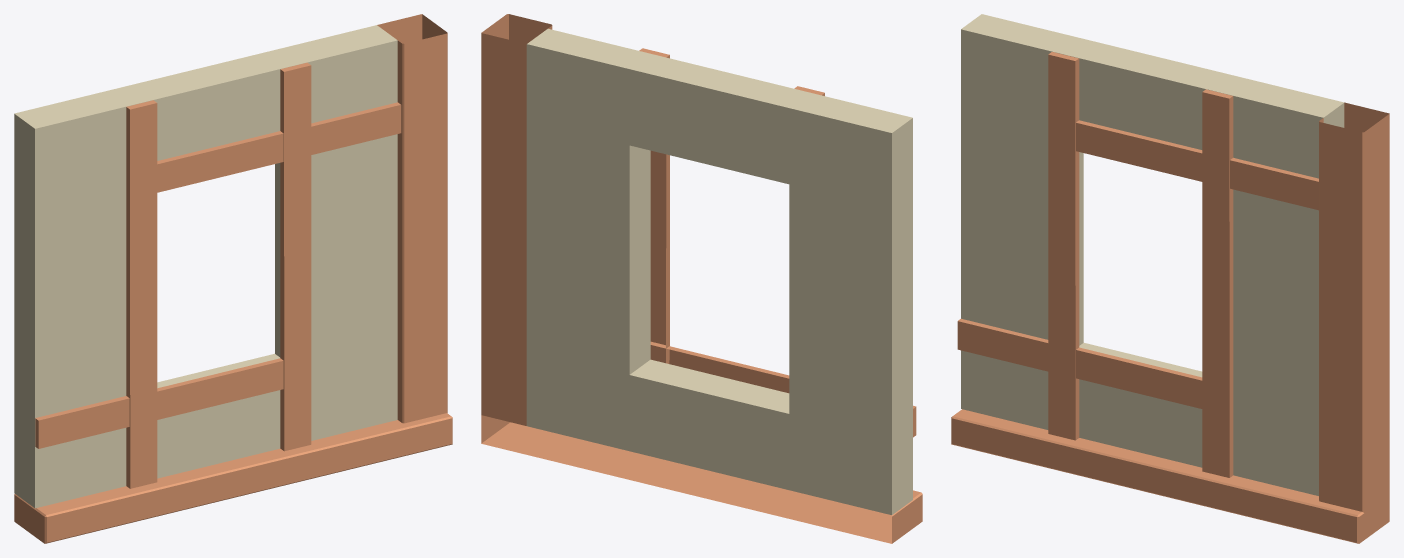
The model's file is Wall9_window_small_low.fbx.
3 views of the same model, side by side, from view 1: azimuth 30°, elevation 25°; view 2: azimuth 150°, elevation 25°; view 3: azimuth 330°, elevation 25° (orthographic).
Visible parts, largest first — view 1: Wall9_window_small_low, Wall9_window_woodframe1_low, Wall9_window_woodplank1_low; view 2: Wall9_window_small_low, Wall9_window_woodplank1_low, Wall9_window_woodframe1_low; view 3: Wall9_window_small_low, Wall9_window_woodplank1_low, Wall9_window_woodframe1_low.
Part boxes in pixels (<box>): Wall9_window_small_low: <box>14,25,397,508</box>; Wall9_window_woodframe1_low: <box>35,62,401,488</box>; Wall9_window_woodplank1_low: <box>14,14,452,543</box>; Wall9_window_small_low: <box>526,28,912,515</box>; Wall9_window_woodplank1_low: <box>481,14,922,543</box>; Wall9_window_woodframe1_low: <box>639,48,916,437</box>; Wall9_window_small_low: <box>961,14,1344,495</box>; Wall9_window_woodplank1_low: <box>951,102,1389,543</box>; Wall9_window_woodframe1_low: <box>957,52,1318,477</box>.
Size of the model in its own units: 450 by 430 by 60.
